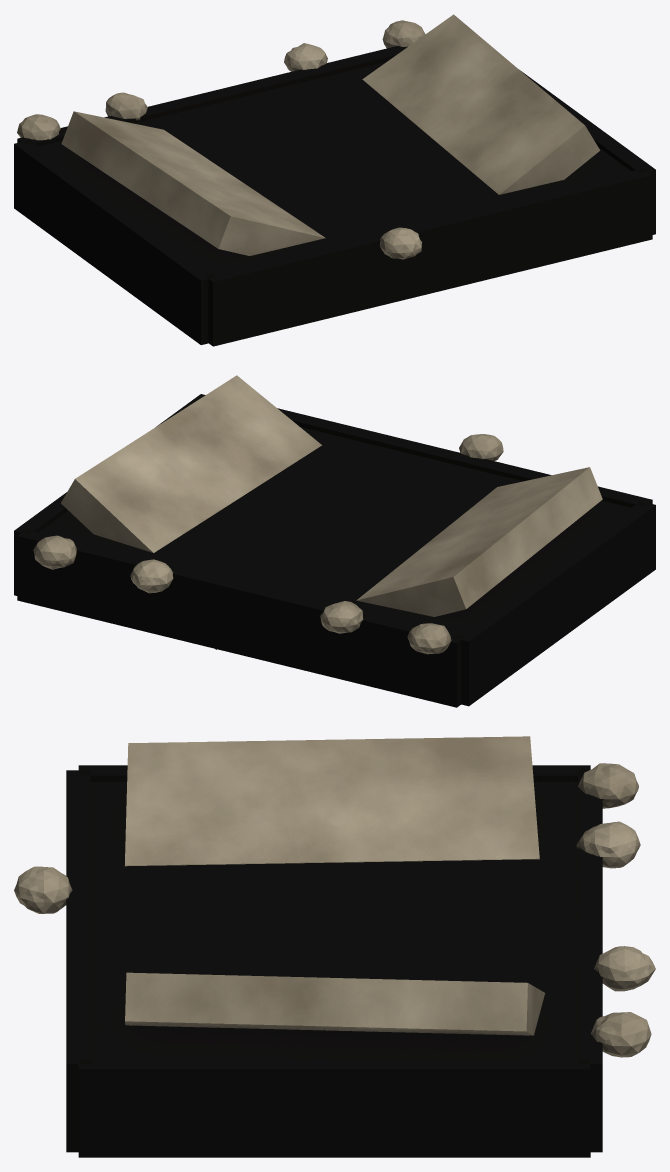
The model's file is trap_siracusa_heavy_sprung.glb.
The picture shows the model from 3 angles, top to bottom: view 1: azimuth 30°, elevation 25°; view 2: azimuth 150°, elevation 25°; view 3: azimuth 270°, elevation 25°; orthographic projection. The views are drawn at different scales.
Parts seen in each view (by area): view 1: trap_siracusa_heavy_sprung; view 2: trap_siracusa_heavy_sprung; view 3: trap_siracusa_heavy_sprung.
Boxes of the visible parts, bbox=[...] form: trap_siracusa_heavy_sprung: bbox=[14, 14, 655, 346]; trap_siracusa_heavy_sprung: bbox=[14, 375, 655, 707]; trap_siracusa_heavy_sprung: bbox=[14, 736, 655, 1157].
Size of the model in its own units: 1.18 by 0.3099 by 1.05.
Materials: 2 (2 with a texture image).
